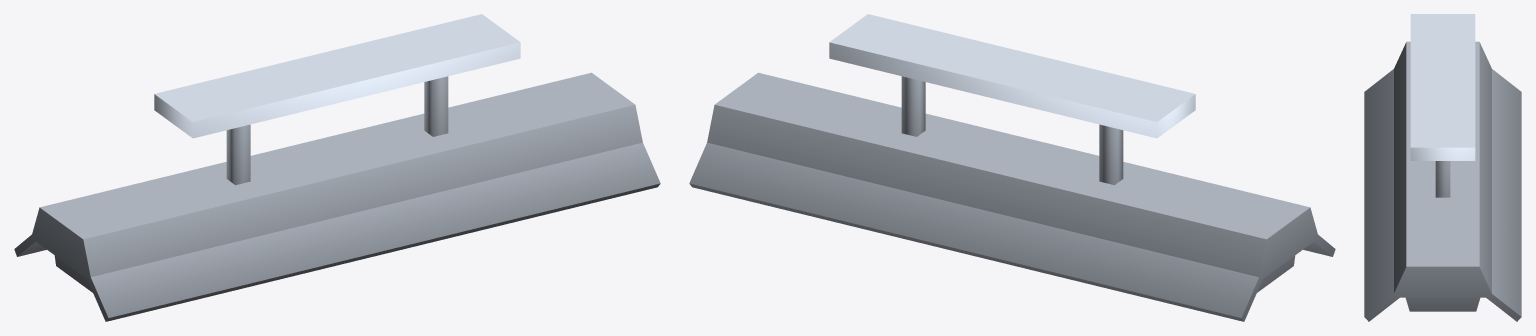
File: CeilingLight_Laundromat.fbx
3 renders of one model, left to right at view 1: azimuth 30°, elevation 25°; view 2: azimuth 150°, elevation 25°; view 3: azimuth 270°, elevation 25°, orthographic. The views are drawn at different scales.
Parts seen in each view (by area): view 1: CeilingLight.Laundromat; view 2: CeilingLight.Laundromat; view 3: CeilingLight.Laundromat.
Part boxes in pixels (x1=…): CeilingLight.Laundromat: x1=14, y1=14, x2=660, y2=321; CeilingLight.Laundromat: x1=689, y1=14, x2=1335, y2=321; CeilingLight.Laundromat: x1=1364, y1=14, x2=1521, y2=321.
Bounding box in the file's own units: 191 × 50.92 × 56.49.
